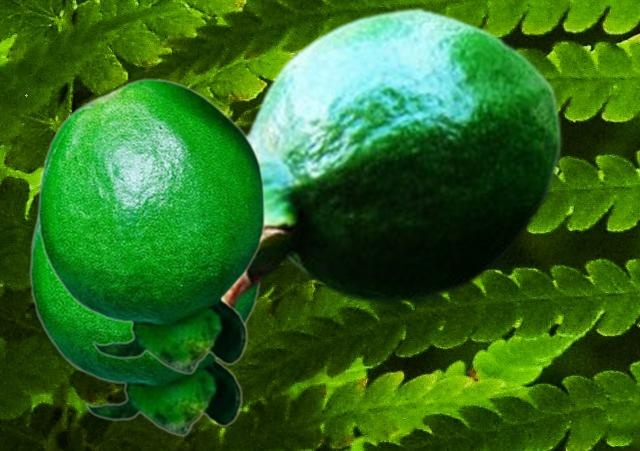guava: (225, 6, 562, 317), (36, 78, 265, 373), (28, 209, 260, 435)
